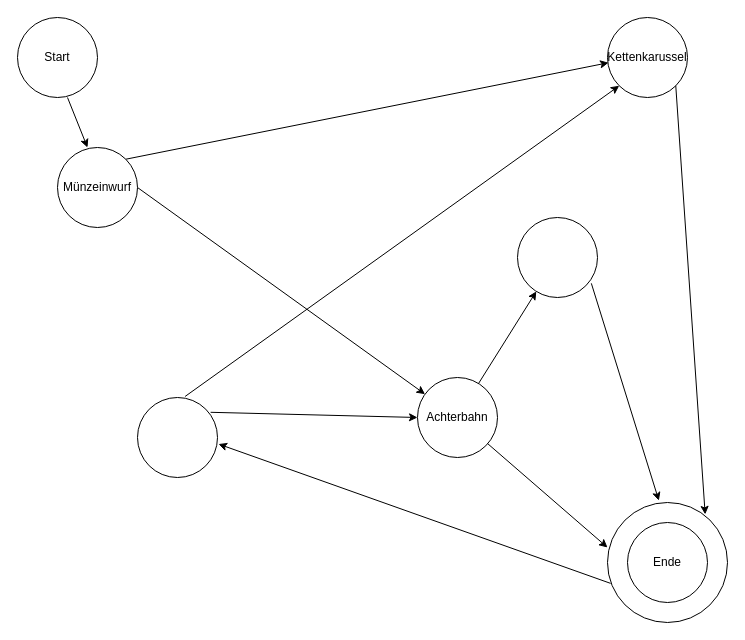
The diagram is 745 pixels wide and 640 high, and some of its shapes have lost their labels. Here are the shapes that lost their labels. From the top down, the box of each, then its label:
(516, 216, 598, 298): Extrarunde
(136, 396, 218, 478): Wechselgeld
